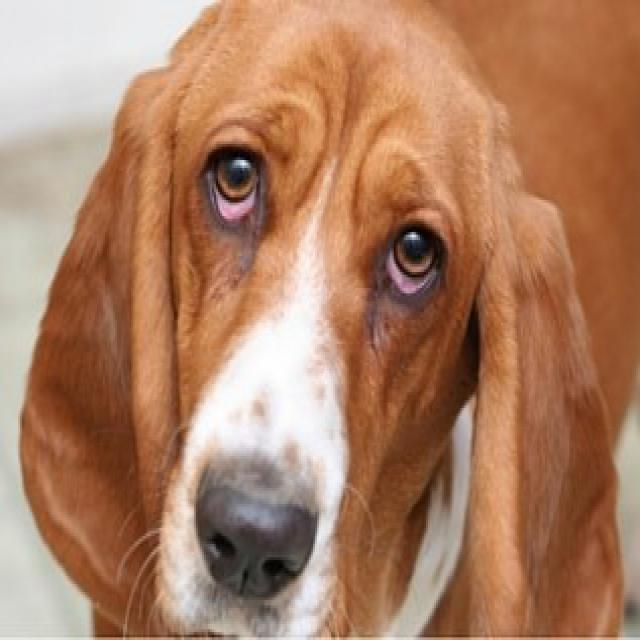eye: (383, 215, 451, 303), (202, 142, 266, 228)
